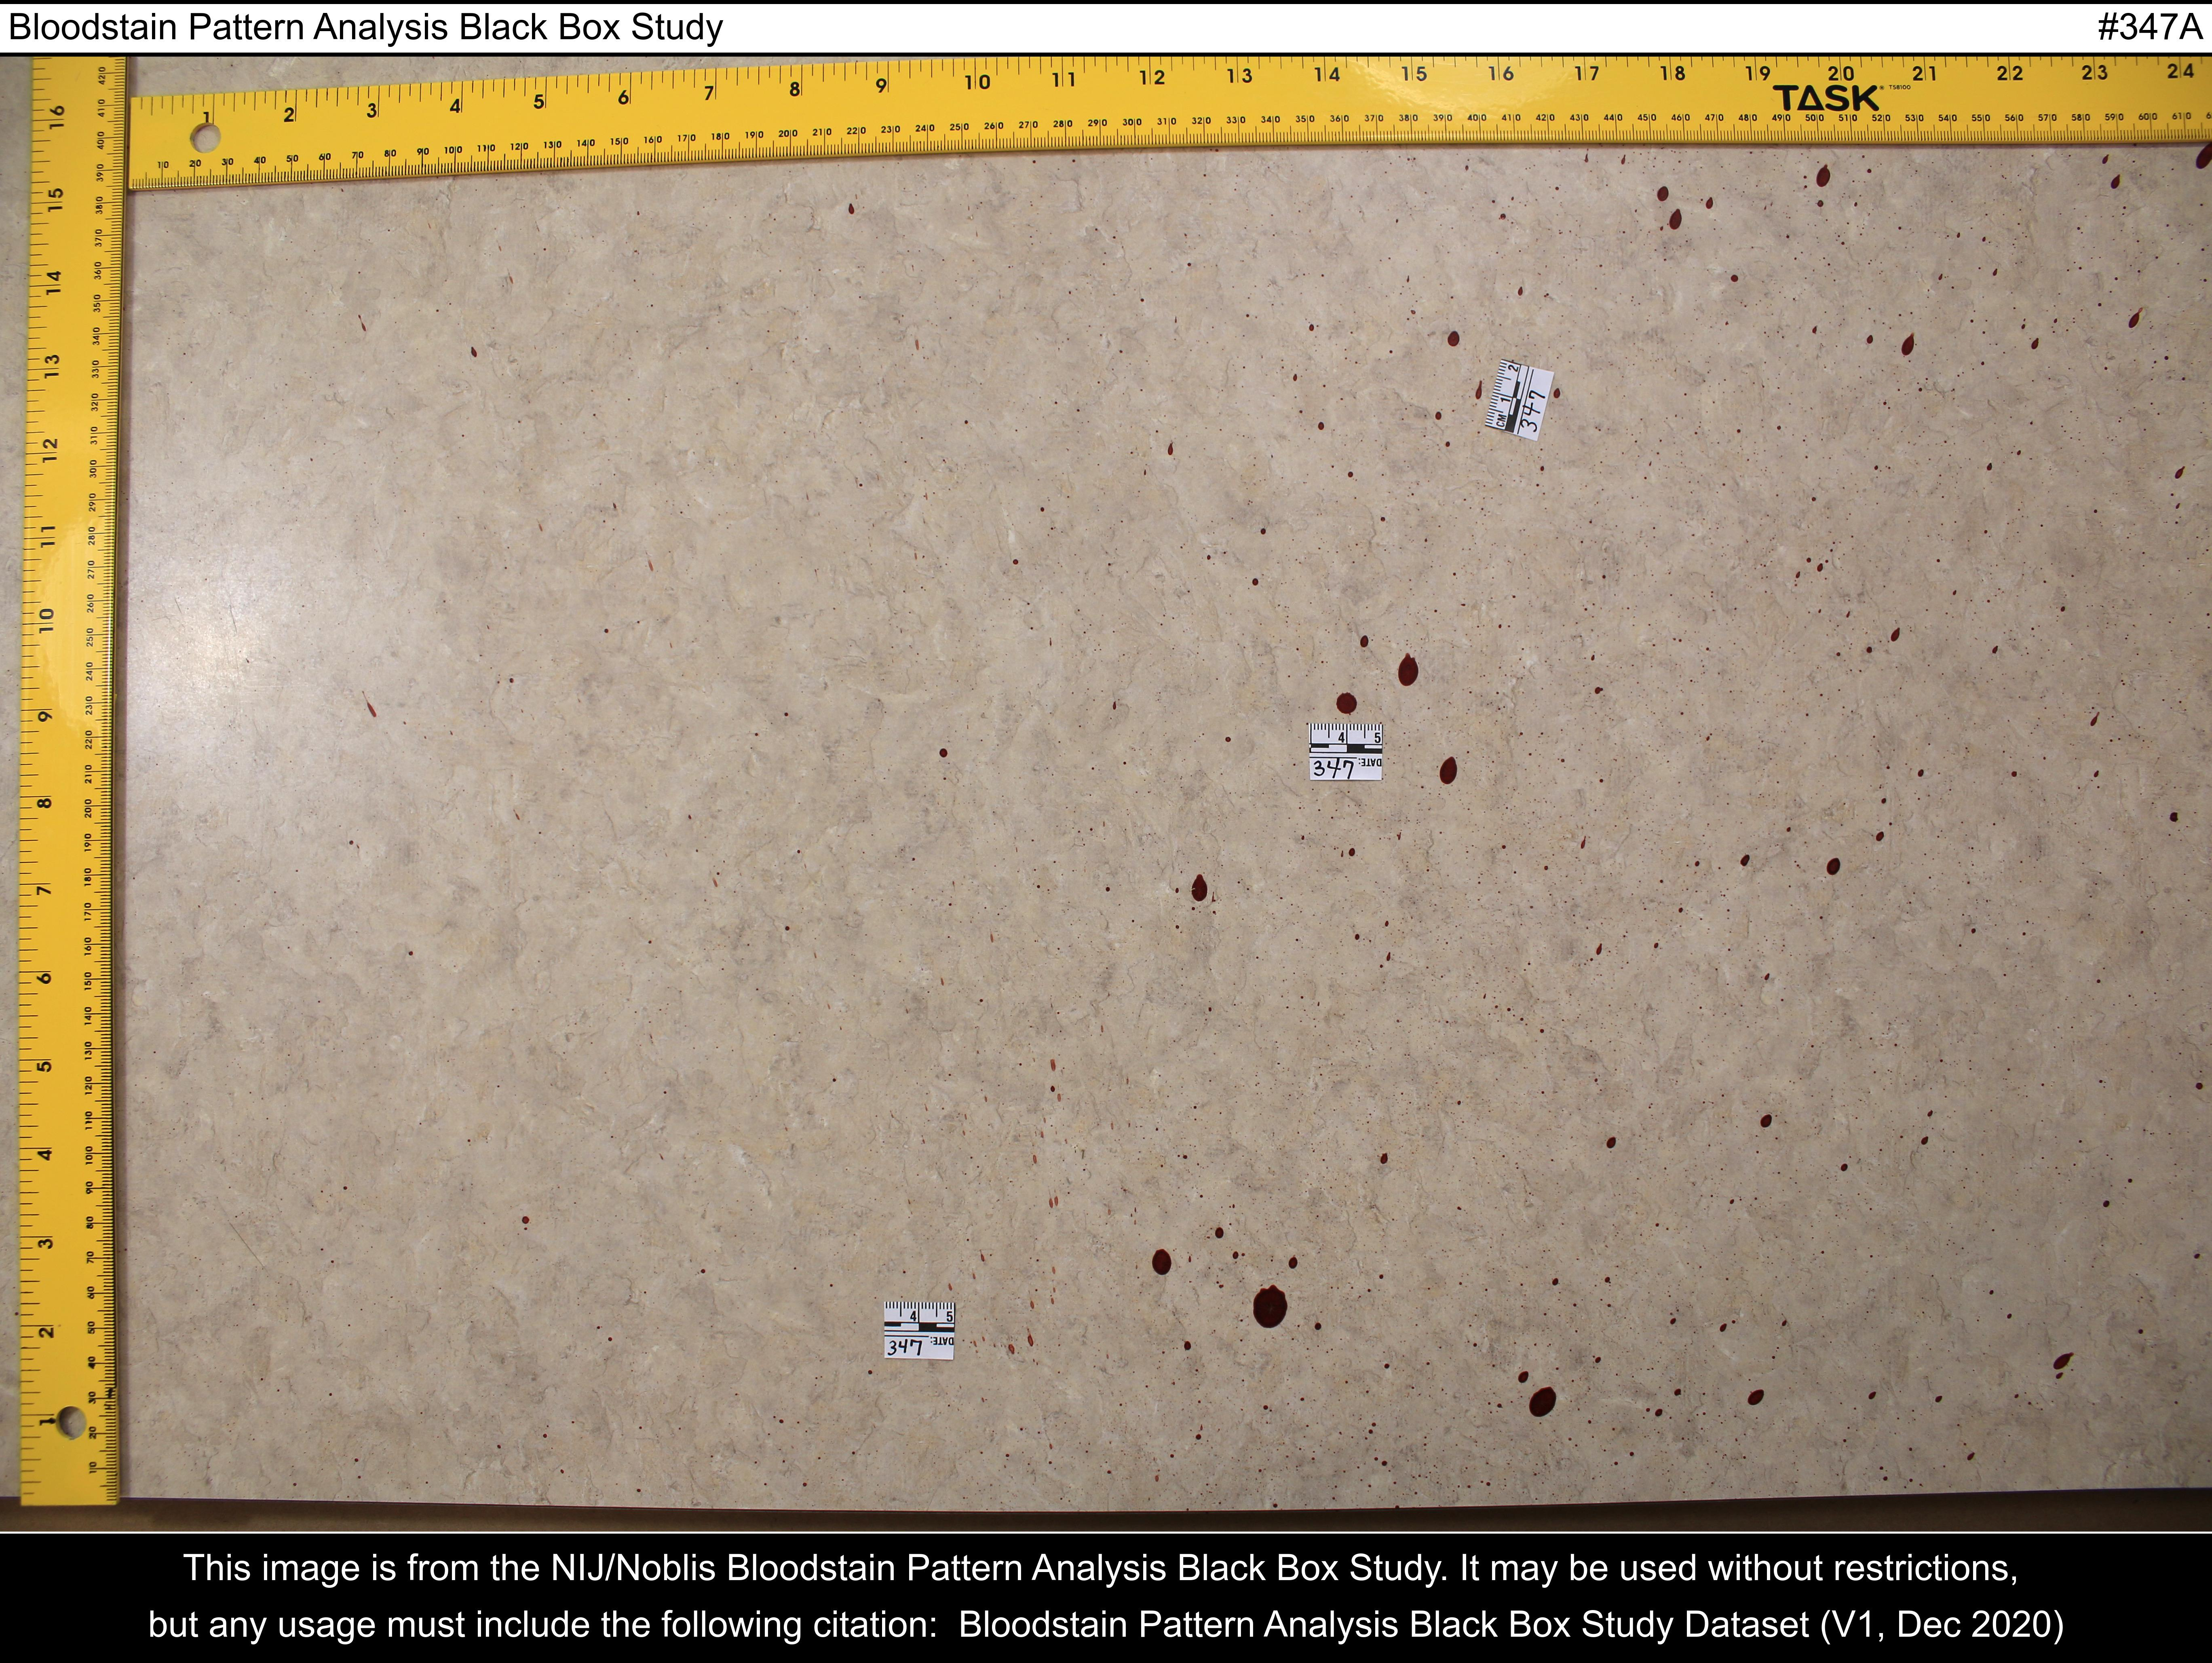Impact: (683, 154, 2212, 1480)
